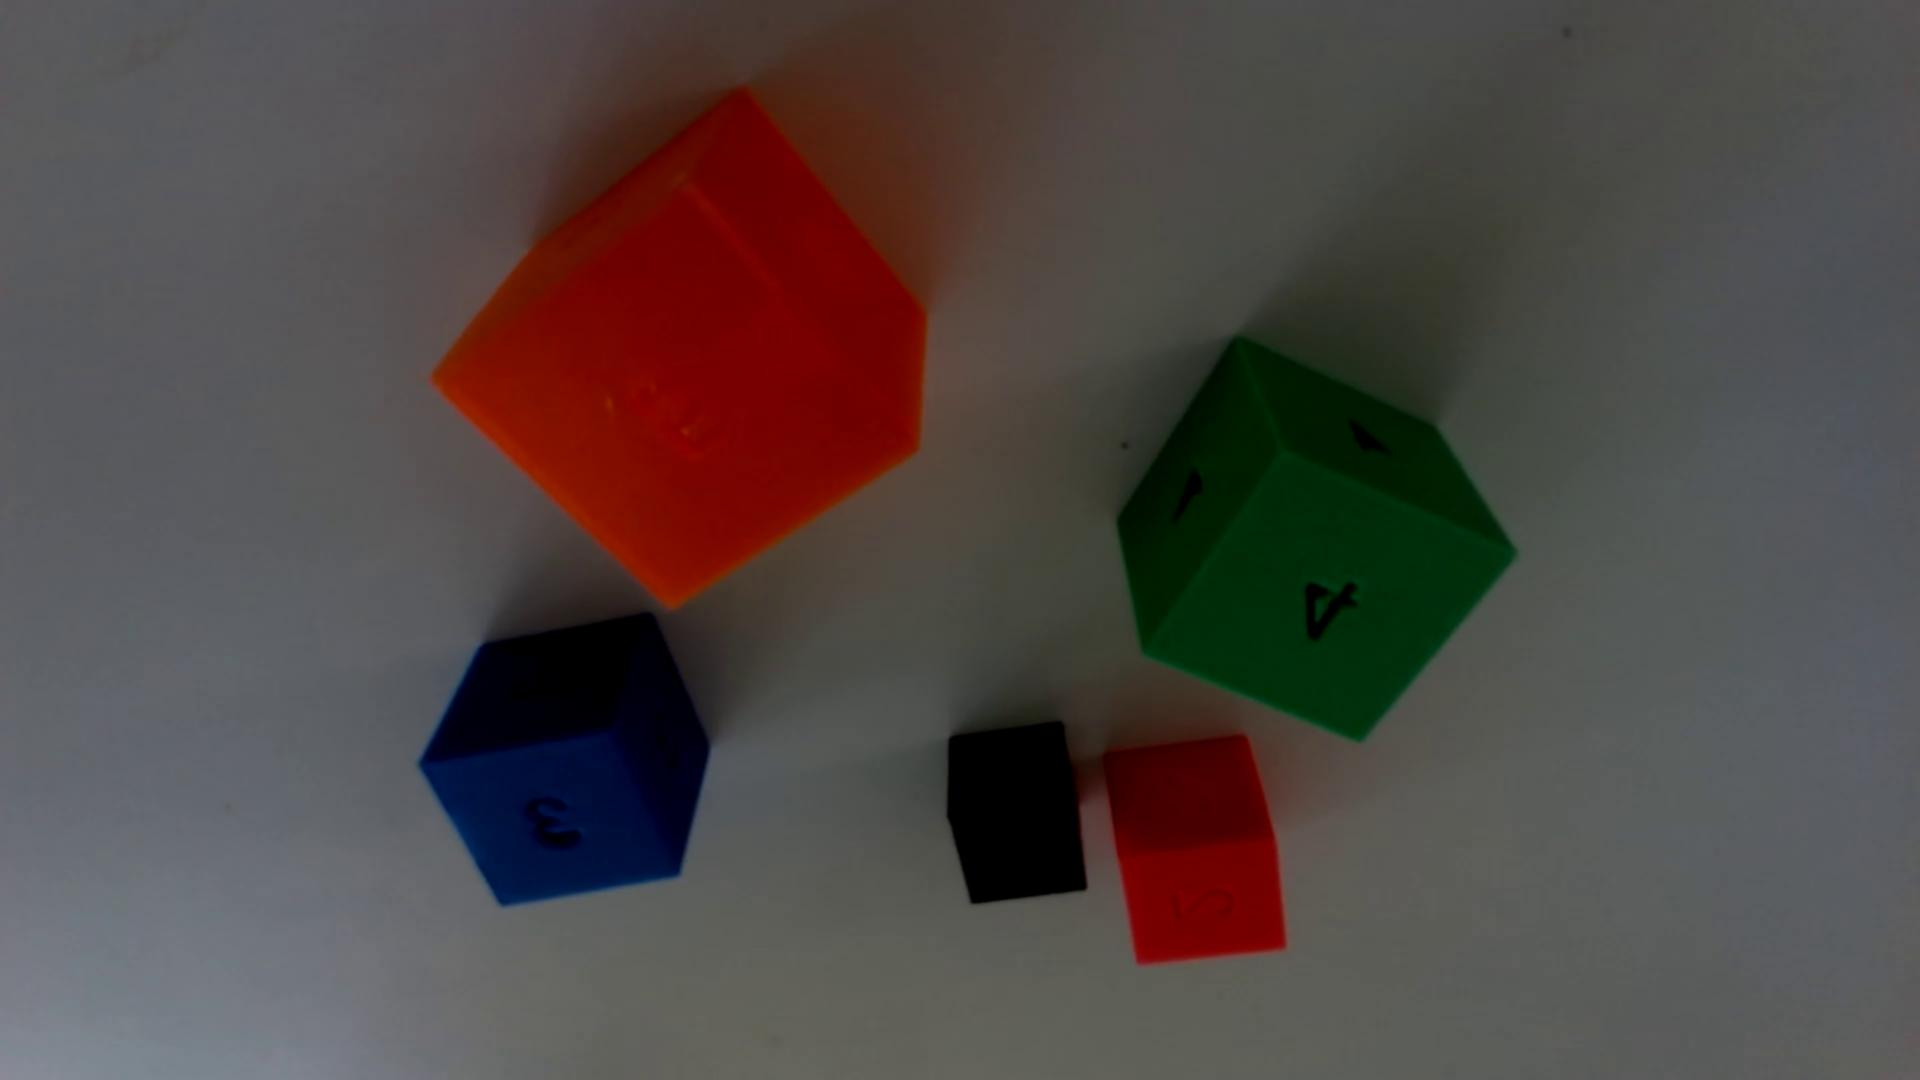black: (945, 723, 1087, 903)
blue: (419, 613, 709, 905)
green: (1117, 338, 1515, 738)
orange: (433, 92, 926, 604)
red: (1104, 735, 1286, 964)
